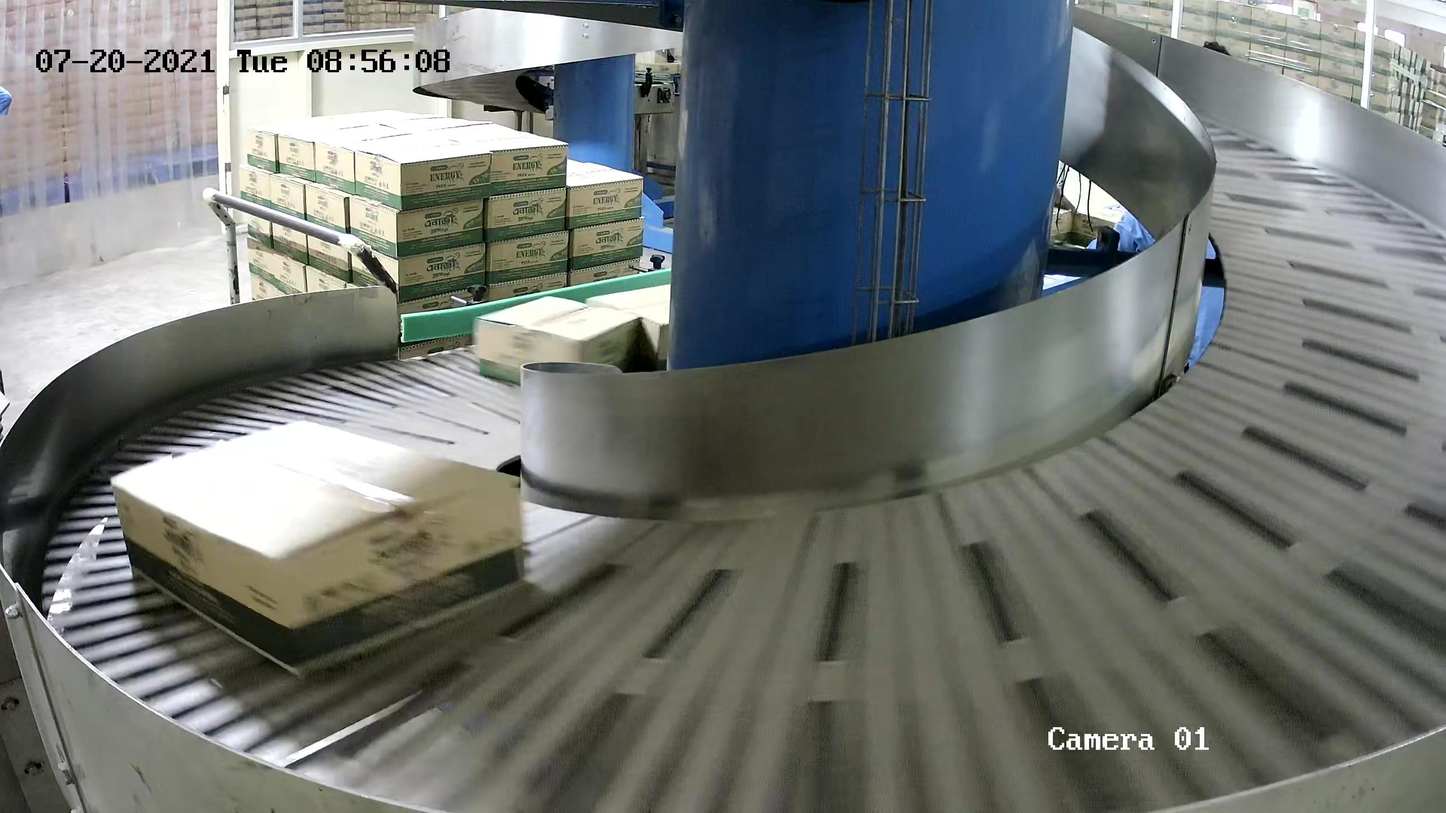Box: (107, 415, 529, 680), (473, 294, 642, 385)
